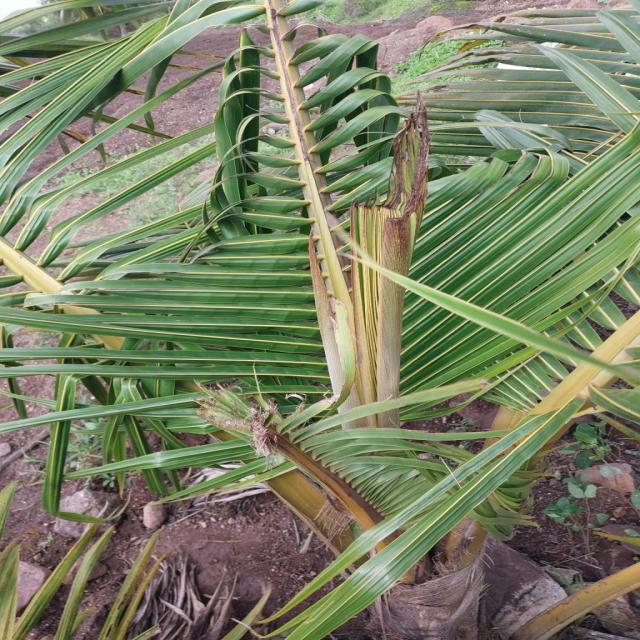bud rot: (350, 99, 430, 275), (352, 260, 405, 403)
